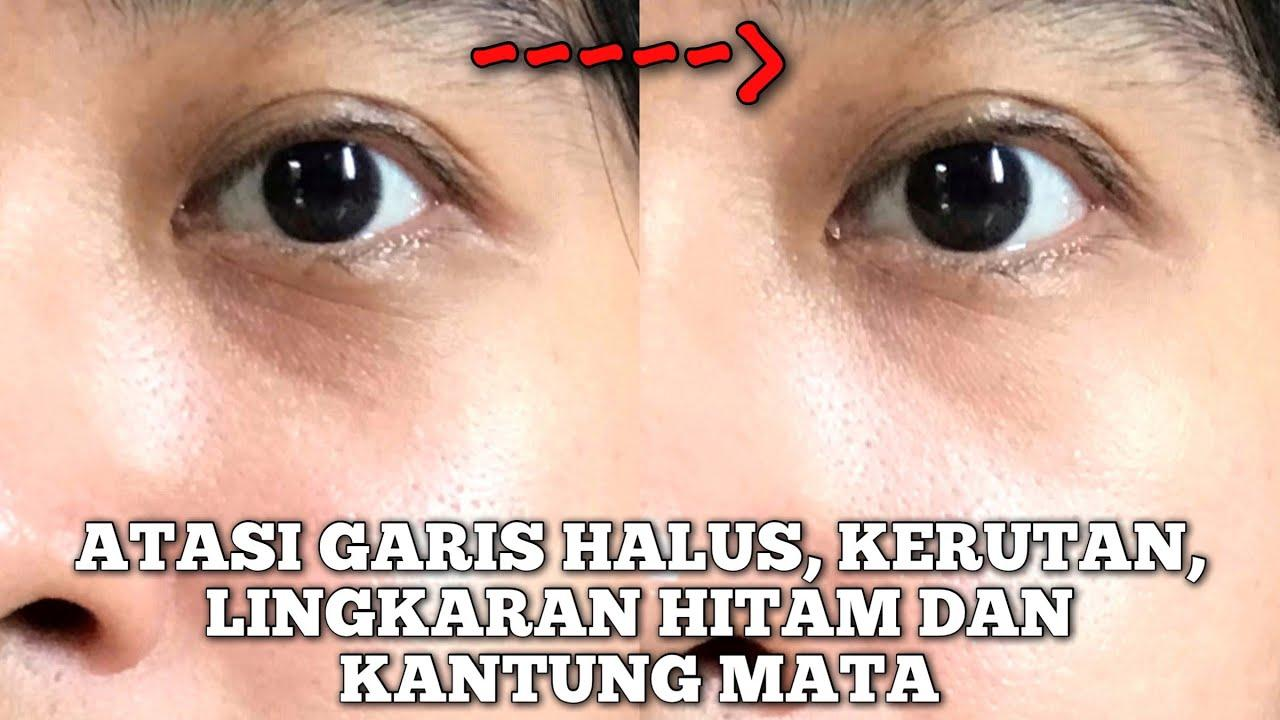Eyebags: (162, 202, 526, 405)
